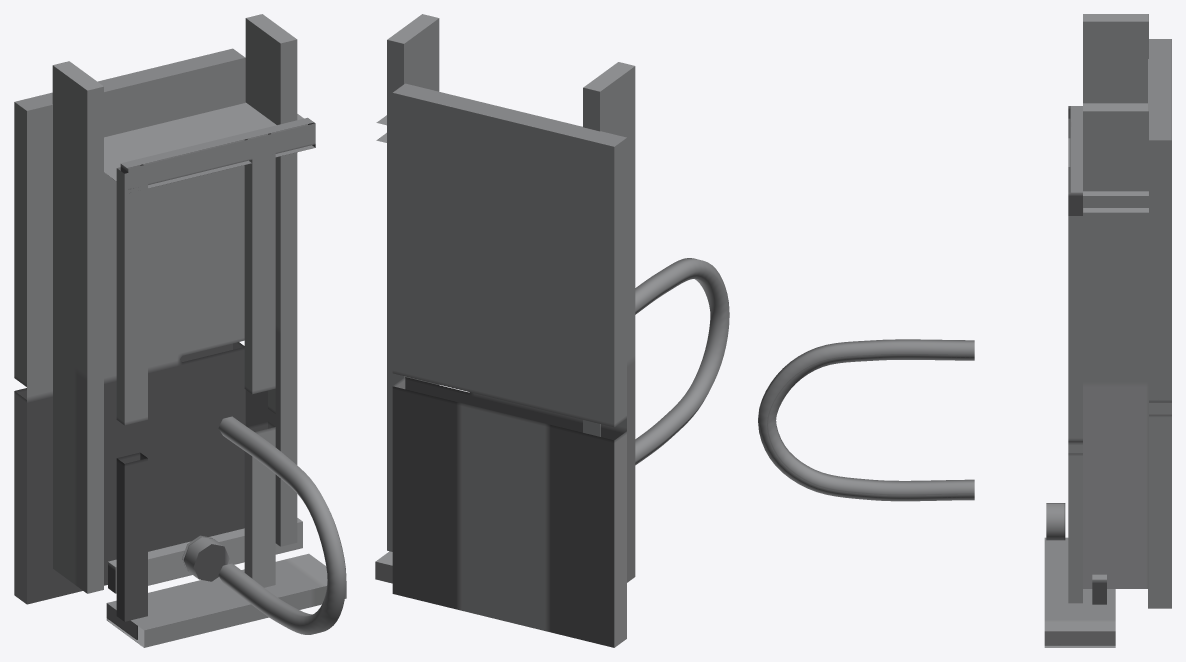
The picture shows the model from 3 angles, left to right: view 1: azimuth 30°, elevation 25°; view 2: azimuth 150°, elevation 25°; view 3: azimuth 270°, elevation 25°; orthographic projection. The views are drawn at different scales.
Size of the model in its own units: 0.3644 by 0.7245 by 0.5191.
